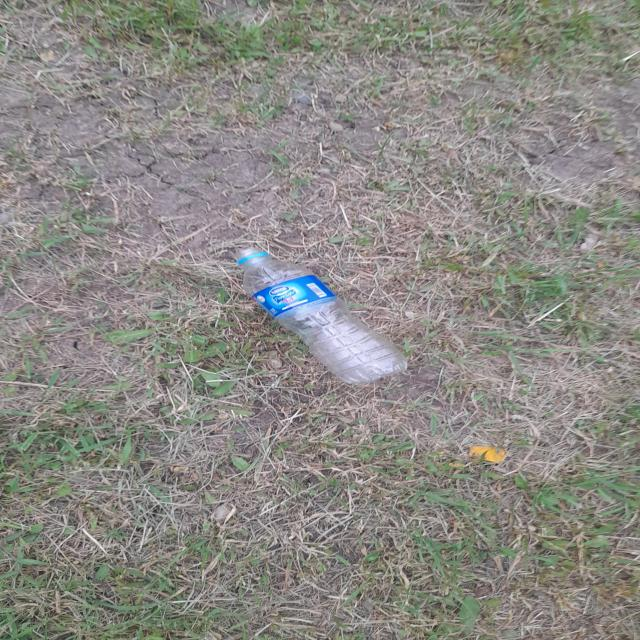empty: (235, 248, 406, 384)
